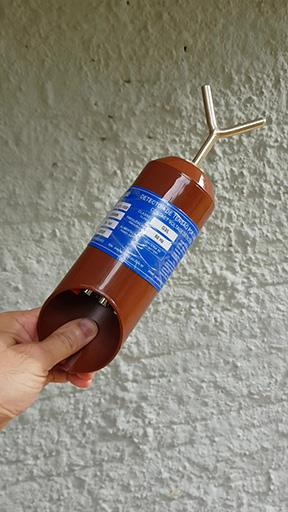Detector_Tensao_Contato: (36, 84, 267, 372)
